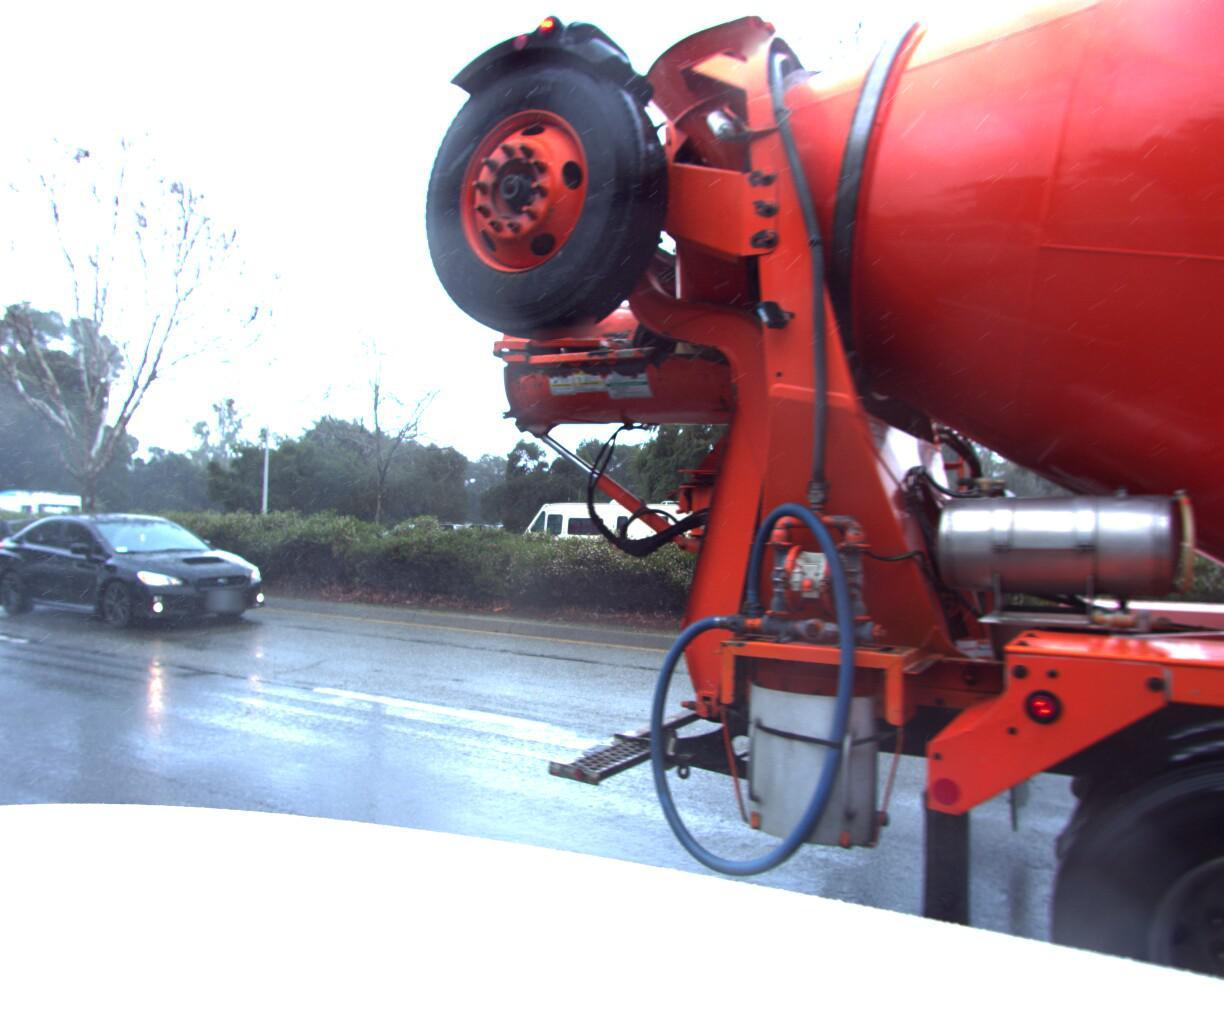car: (0, 501, 276, 633)
other_vehicle: (516, 490, 768, 597), (0, 489, 85, 555)
